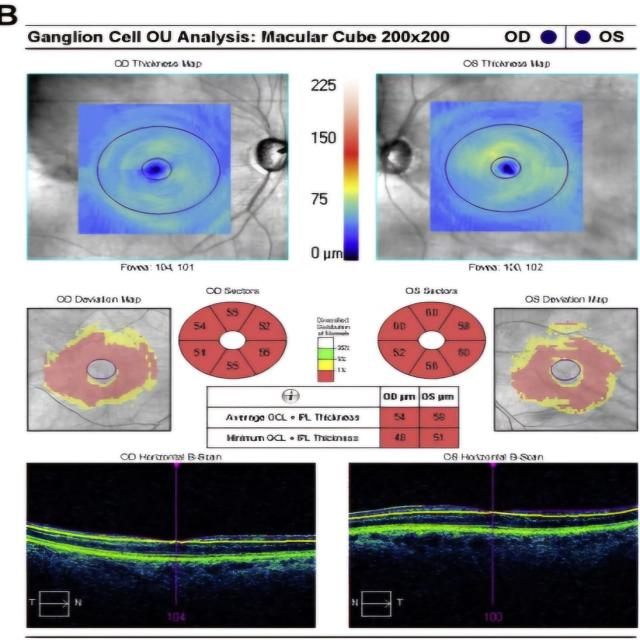average gcl and ipl thickness: (214, 408, 452, 426)
average gcl and ipl thickness-od: (389, 409, 413, 425)
average gcl and ipl thickness-os: (428, 411, 448, 428)
minimum gcl and ipl thickness: (218, 428, 452, 447)
minimum gcl and ipl thickness-od: (388, 429, 415, 445)
minimum gcl and ipl thickness-os: (422, 430, 450, 446)
